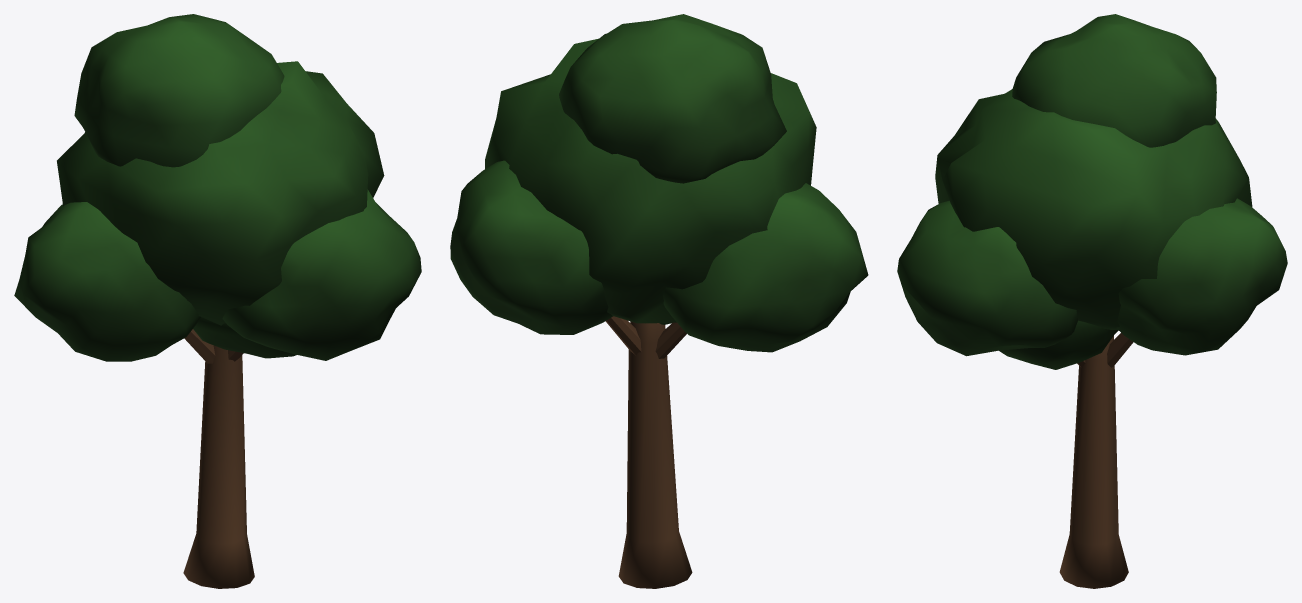
Rendered from tree_oak_b.glb.
The picture shows the model from 3 angles, left to right: view 1: azimuth 30°, elevation 25°; view 2: azimuth 150°, elevation 25°; view 3: azimuth 270°, elevation 25°; orthographic projection. The views are drawn at different scales.
Parts seen in each view (by area): view 1: leaves, leaves.004, leaves.002, leaves.003, trunk, leaves.005; view 2: leaves, leaves.004, leaves.002, leaves.001, trunk, branch, branch.001; view 3: leaves, leaves.004, leaves.003, leaves.001, trunk, leaves.005.
Part boxes in pixels (x1,y1,x2,y2): leaves: (57,61,384,325); leaves.004: (74,14,284,167); leaves.002: (14,202,200,361); leaves.003: (222,189,421,360); trunk: (183,345,254,588); leaves.005: (193,317,296,358); leaves: (485,38,816,323); leaves.004: (559,14,786,183); leaves.002: (663,183,868,352); leaves.001: (450,160,613,334); trunk: (618,321,692,588); branch: (605,316,641,355); branch.001: (655,322,686,358); leaves: (935,89,1252,329); leaves.004: (1012,14,1216,147); leaves.003: (897,200,1077,356); leaves.001: (1116,198,1287,355); trunk: (1059,336,1128,588); leaves.005: (999,320,1118,369).
Bounding box in the file's own units: 2.6 × 4.09 × 2.71.
